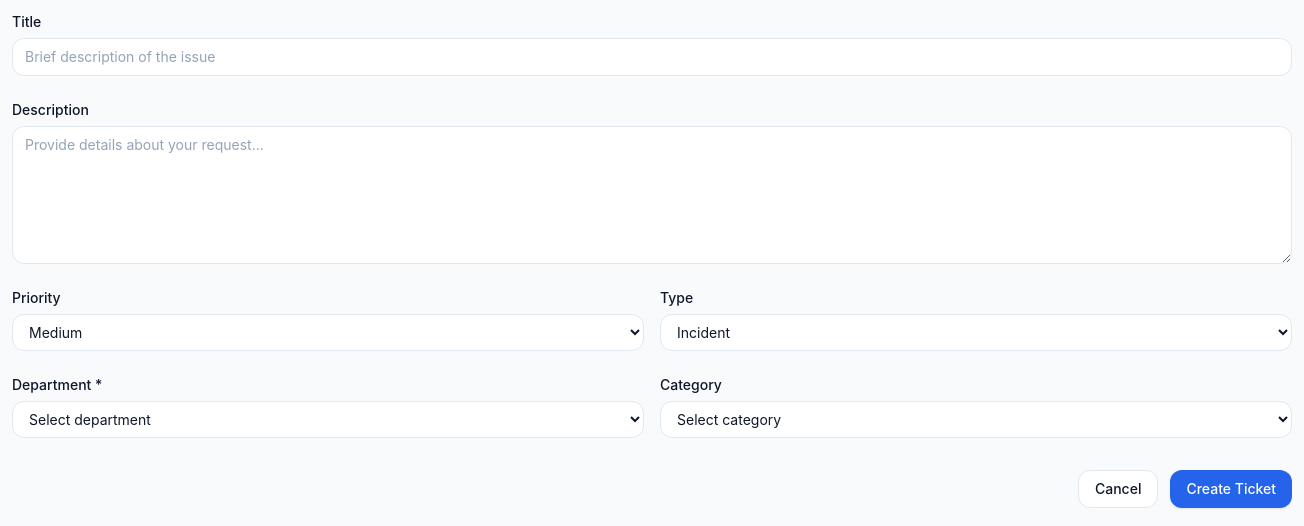
Test: Part 5: Ticket Creation Form › shows loading state during submission
Type "T" into the field labelled "Title" at point(652, 57), box [12,38,1292,76]
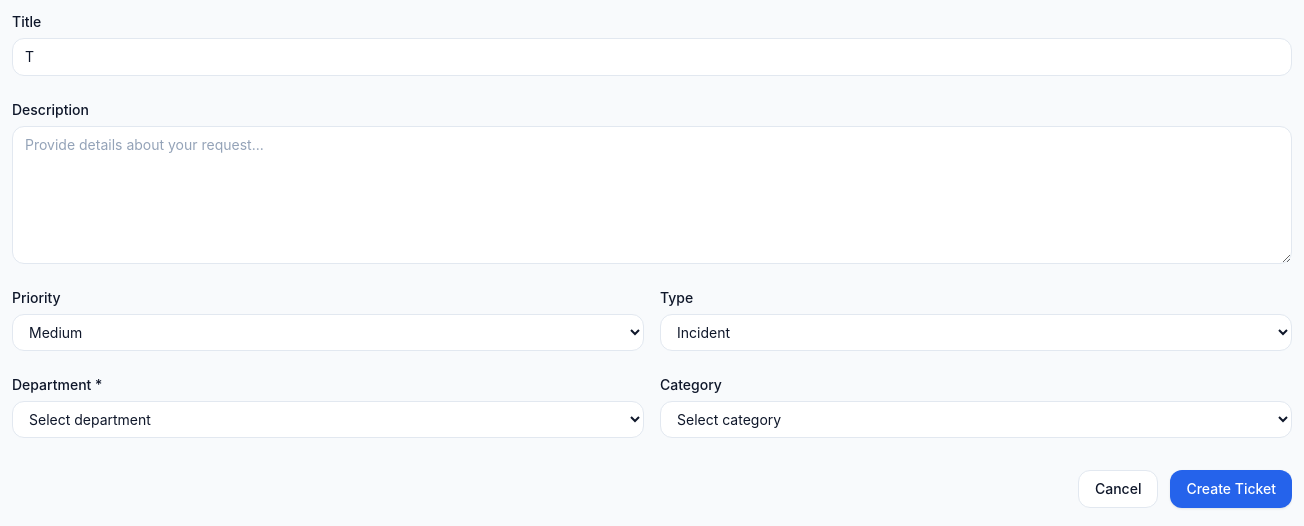
Type "D" into the text box with placeholder "Provide details about your request..." at point(652, 195), box [12,126,1292,264]
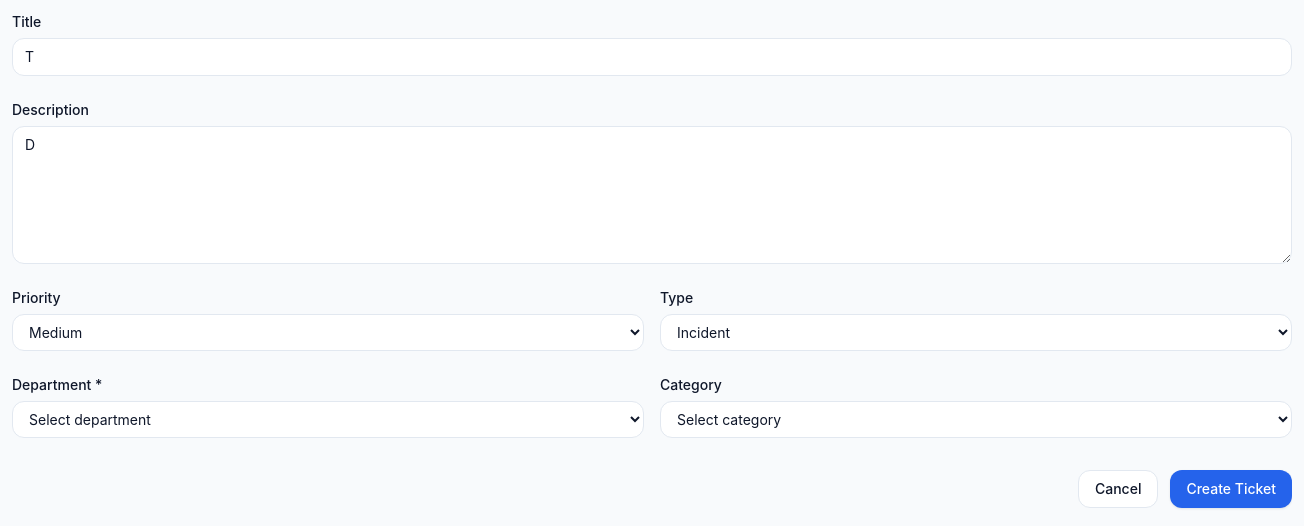
Select "Engineering" in the dropdown below "Department *" at point(328, 420), box [12,401,644,438]
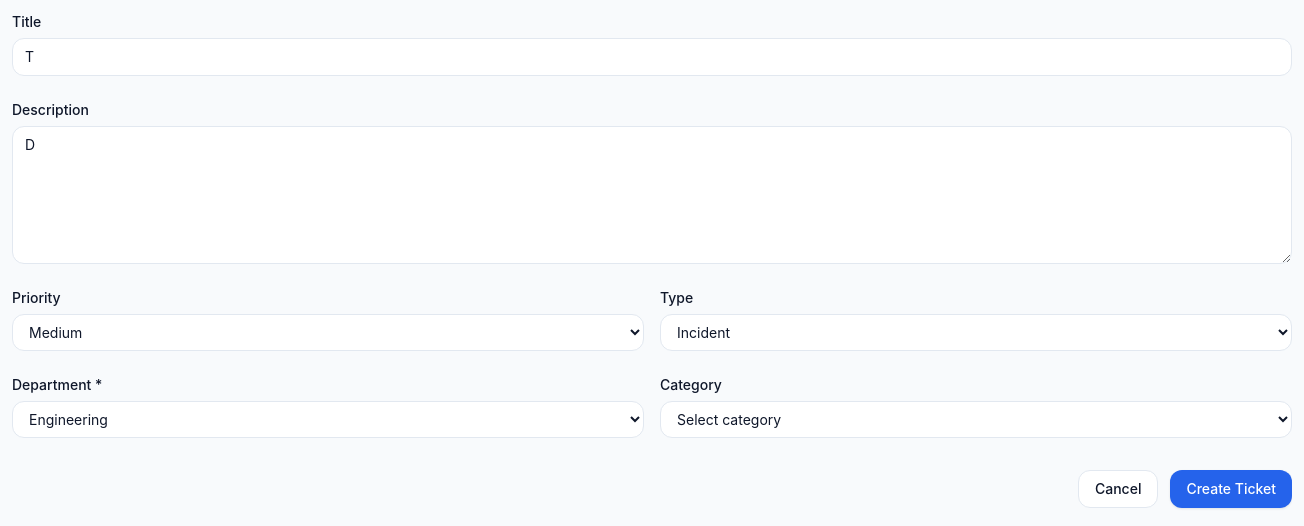
Click the button "Create Ticket" at point(1231, 489), box [1170,470,1292,508]
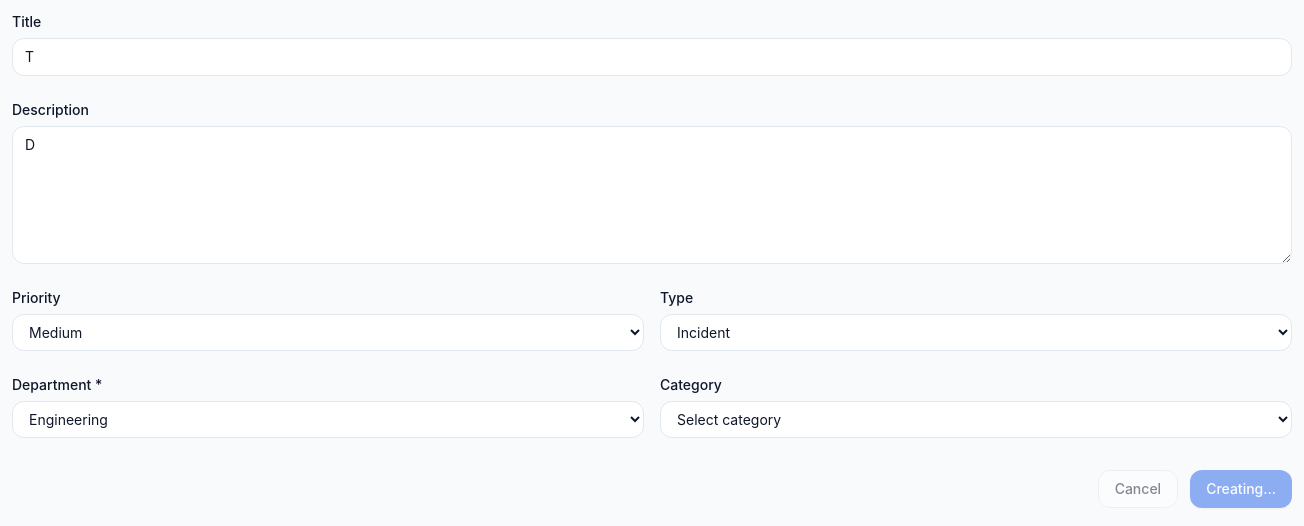
Expected: the button "Creating..." is shown, [1190,470,1292,508]
